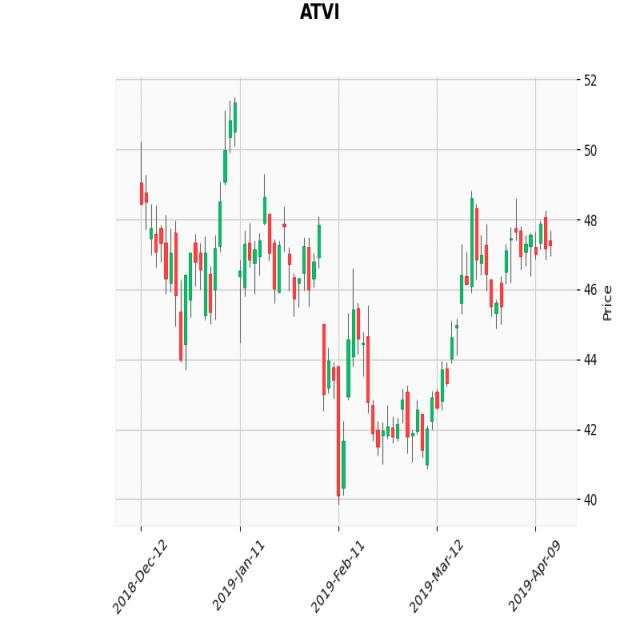Cup-and-handle: (357, 191, 516, 468)
